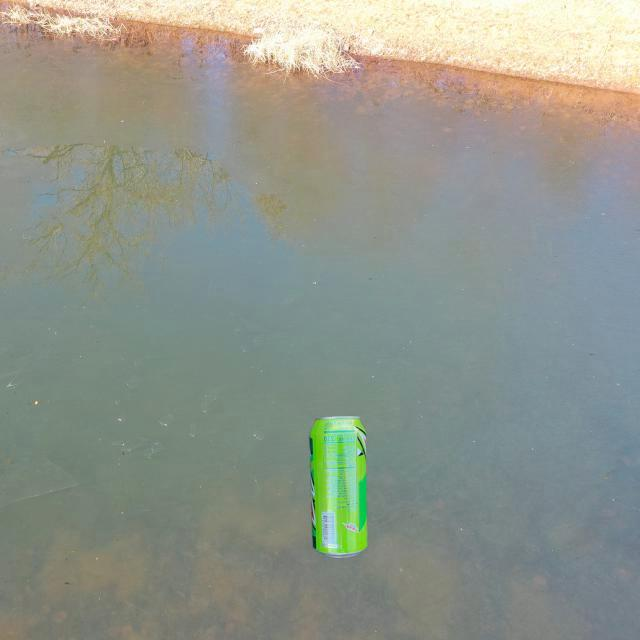Metal: (310, 412, 369, 559)
